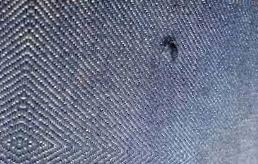knot: (159, 34, 182, 66)
